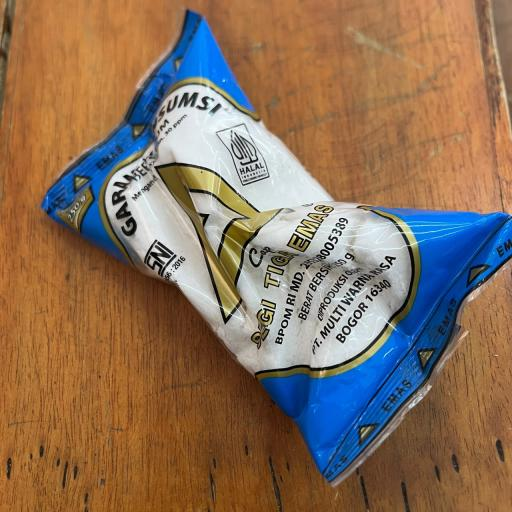Garam Segitiga Emas: (26, 16, 512, 485)
